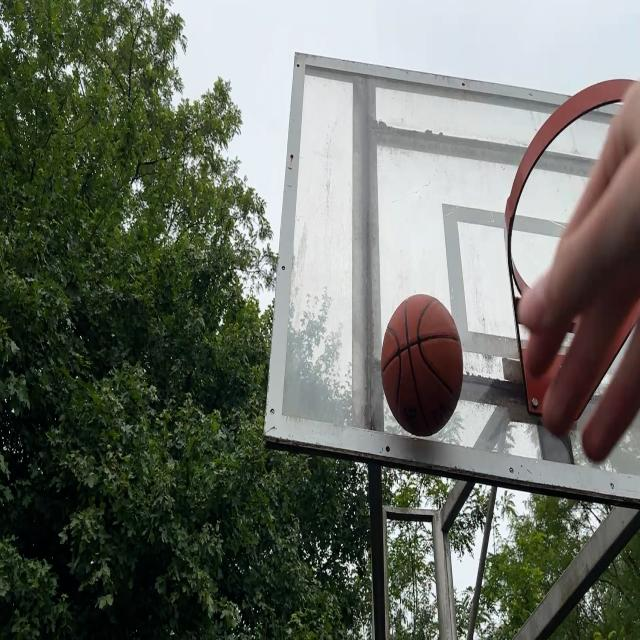rebound_hit: (382, 294, 464, 438)
